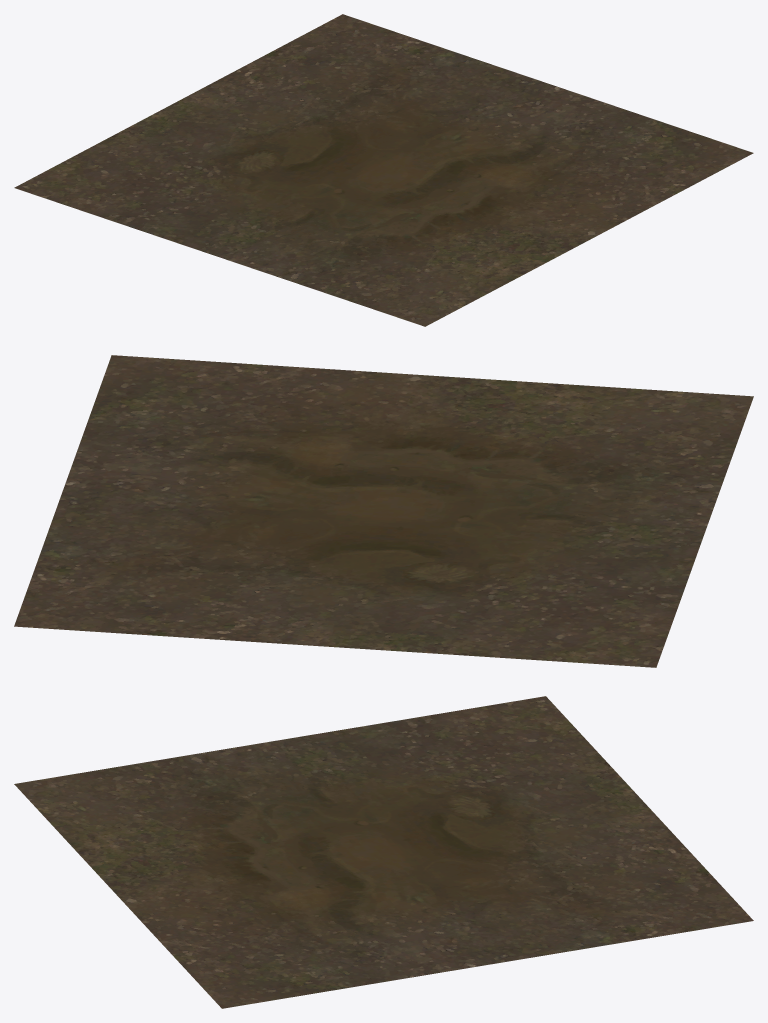
File: menu_dirt_blends01.fbx
3 renders of one model, top to bottom at view 1: azimuth 30°, elevation 25°; view 2: azimuth 150°, elevation 25°; view 3: azimuth 270°, elevation 25°, orthographic. The views are drawn at different scales.
Visible parts, largest first — view 1: dirt_blend_shadow; view 2: dirt_blend_shadow; view 3: dirt_blend_shadow.
Boxes of the visible parts, left/top/right/bottom form: dirt_blend_shadow: left=14, top=14, right=753, bottom=326; dirt_blend_shadow: left=14, top=355, right=753, bottom=667; dirt_blend_shadow: left=14, top=696, right=753, bottom=1008.
Size of the model in its own units: 10.12 by 0 by 10.12.
